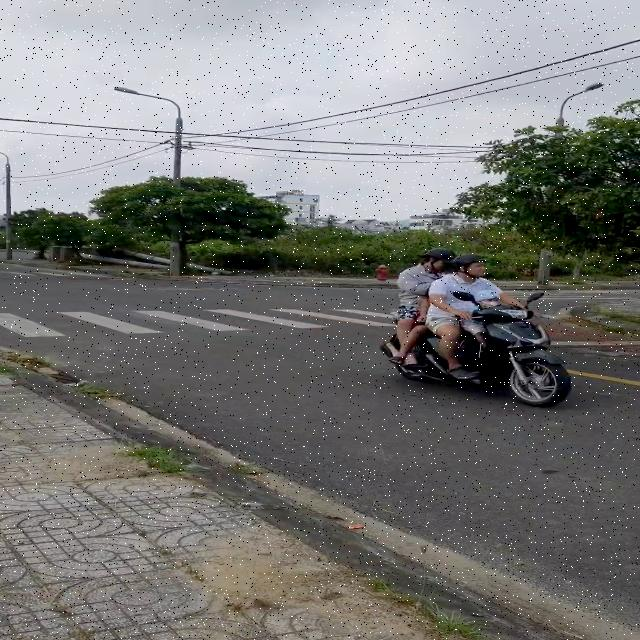helmet: (463, 251, 494, 288), (424, 248, 450, 283)
